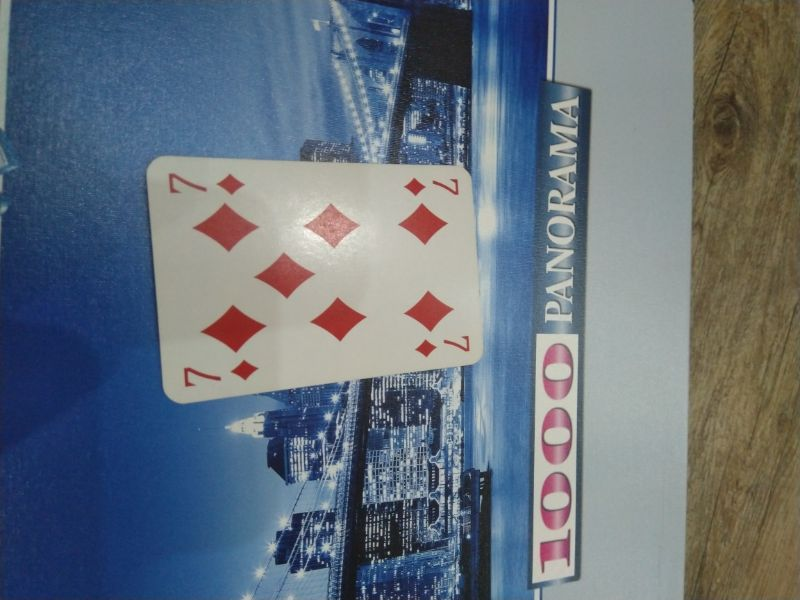7d: (181, 355, 262, 389), (162, 169, 247, 198), (413, 332, 474, 359), (403, 173, 464, 197)
